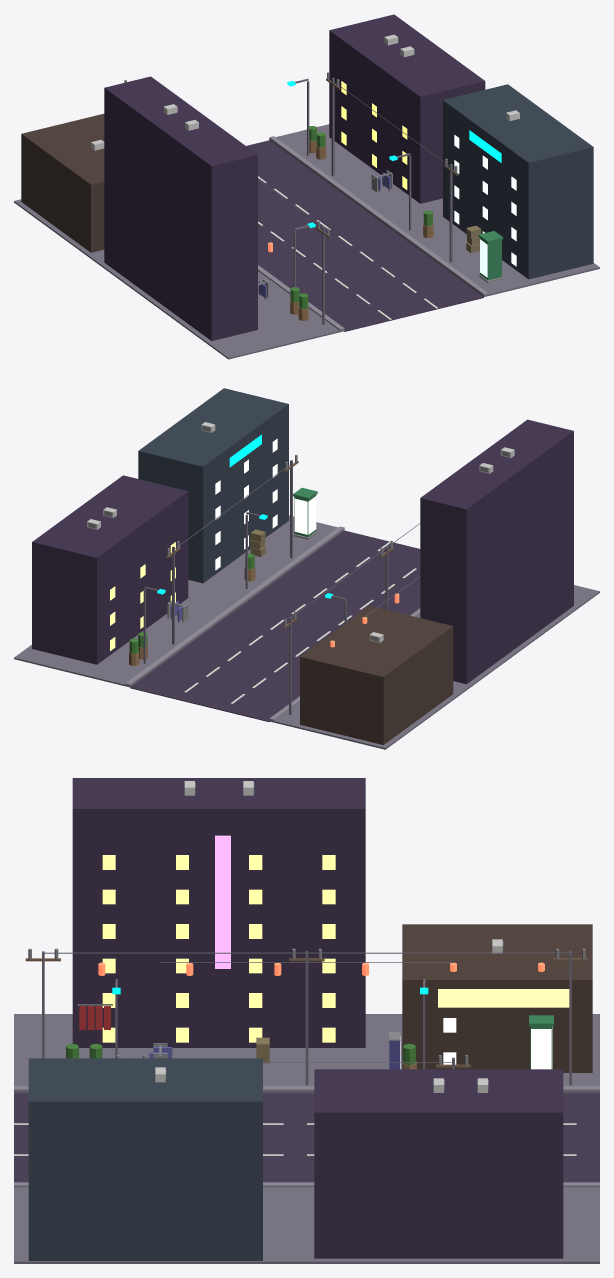
File: env1-2.glb
The picture shows the model from 3 angles, top to bottom: view 1: azimuth 30°, elevation 25°; view 2: azimuth 150°, elevation 25°; view 3: azimuth 270°, elevation 25°; orthographic projection. The views are drawn at different scales.
Parts seen in each view (by area): view 1: env1-2; view 2: env1-2; view 3: env1-2.
Part boxes in pixels (x1,y1,x2,y2): env1-2: (14, 14, 599, 359); env1-2: (14, 388, 599, 749); env1-2: (14, 778, 599, 1263).
Size of the model in its own units: 20 by 9.51 by 20.
